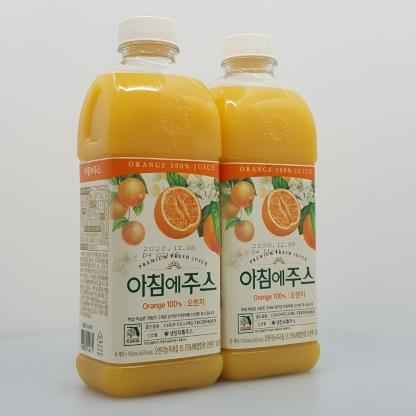----------950ML: (76, 16, 224, 398), (199, 34, 321, 383)
